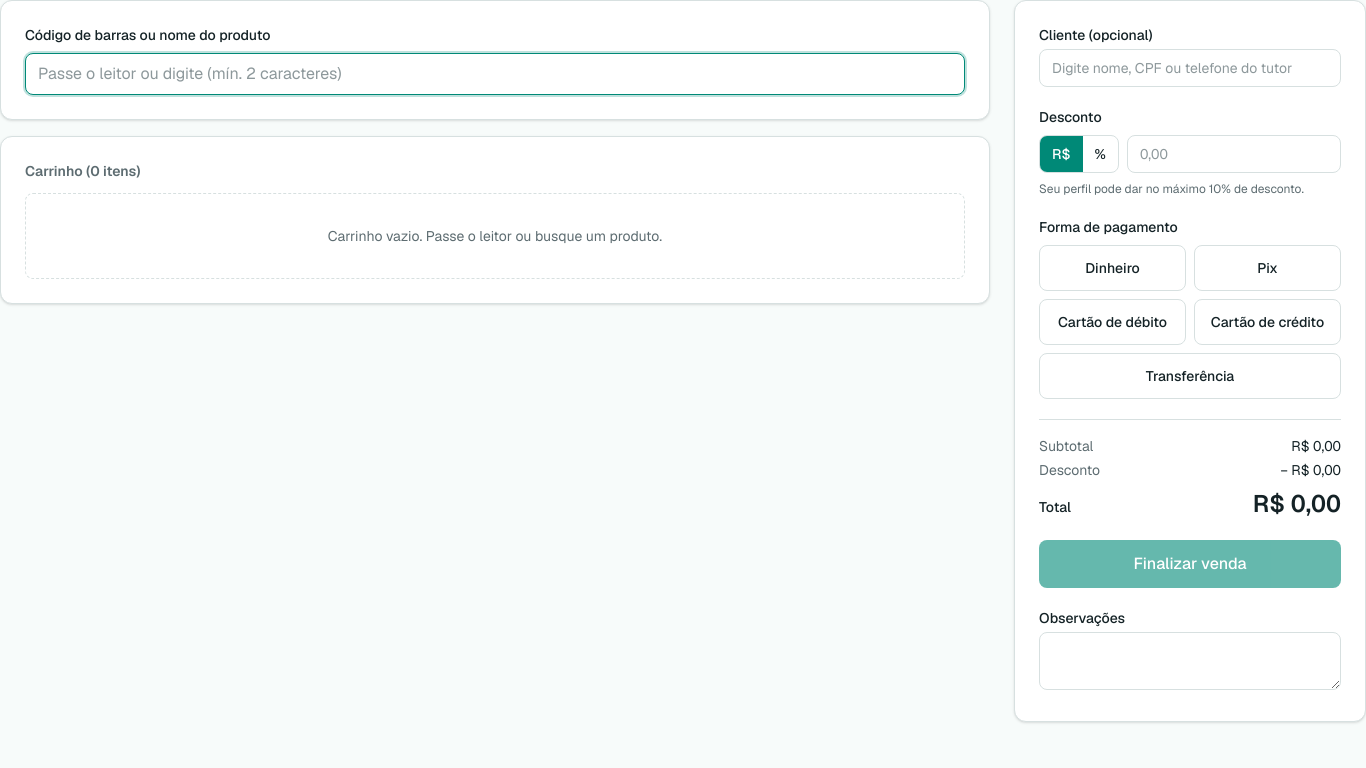
finalização no PDV › 409 de estoque destaca a linha e mantém o carrinho
Type "7891234567890" into the search field labelled "Código de barras ou nome do produto" at (495, 74), box 25,53 -> 965,95
Then press Enter
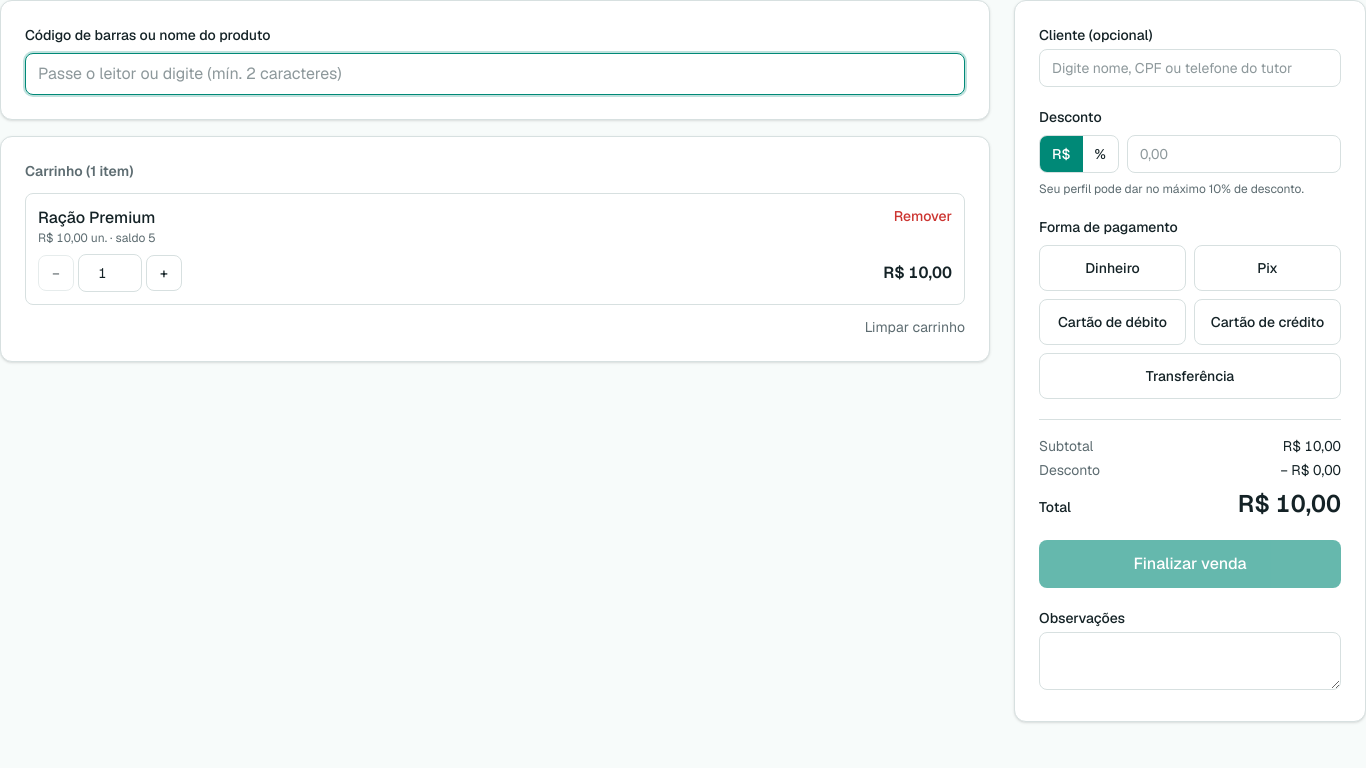
Expected: the list named "Itens do carrinho" is shown, 25,193 -> 965,305
Click the radio button labelled "Pix" at (1268, 268), box 1194,245 -> 1341,291
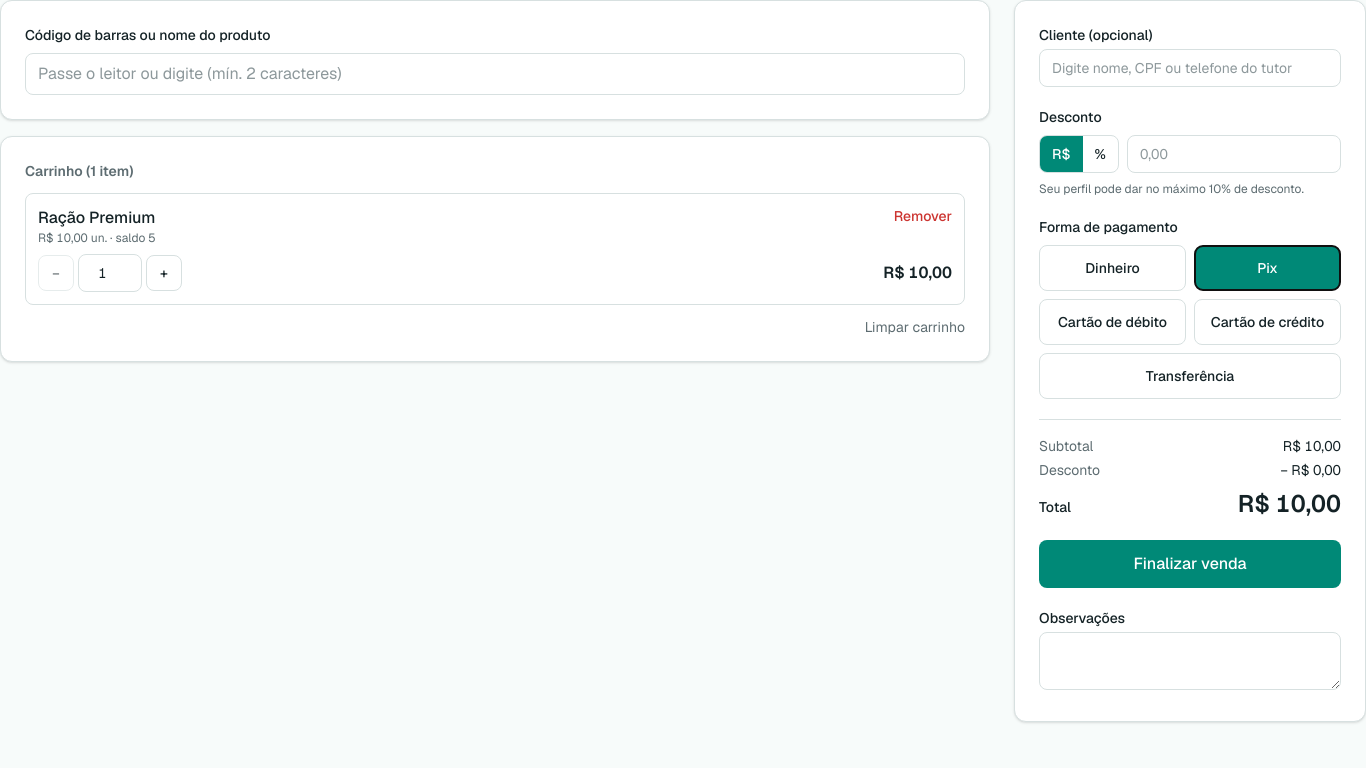
Click the button "Finalizar venda" at (1190, 564), box 1039,540 -> 1341,588
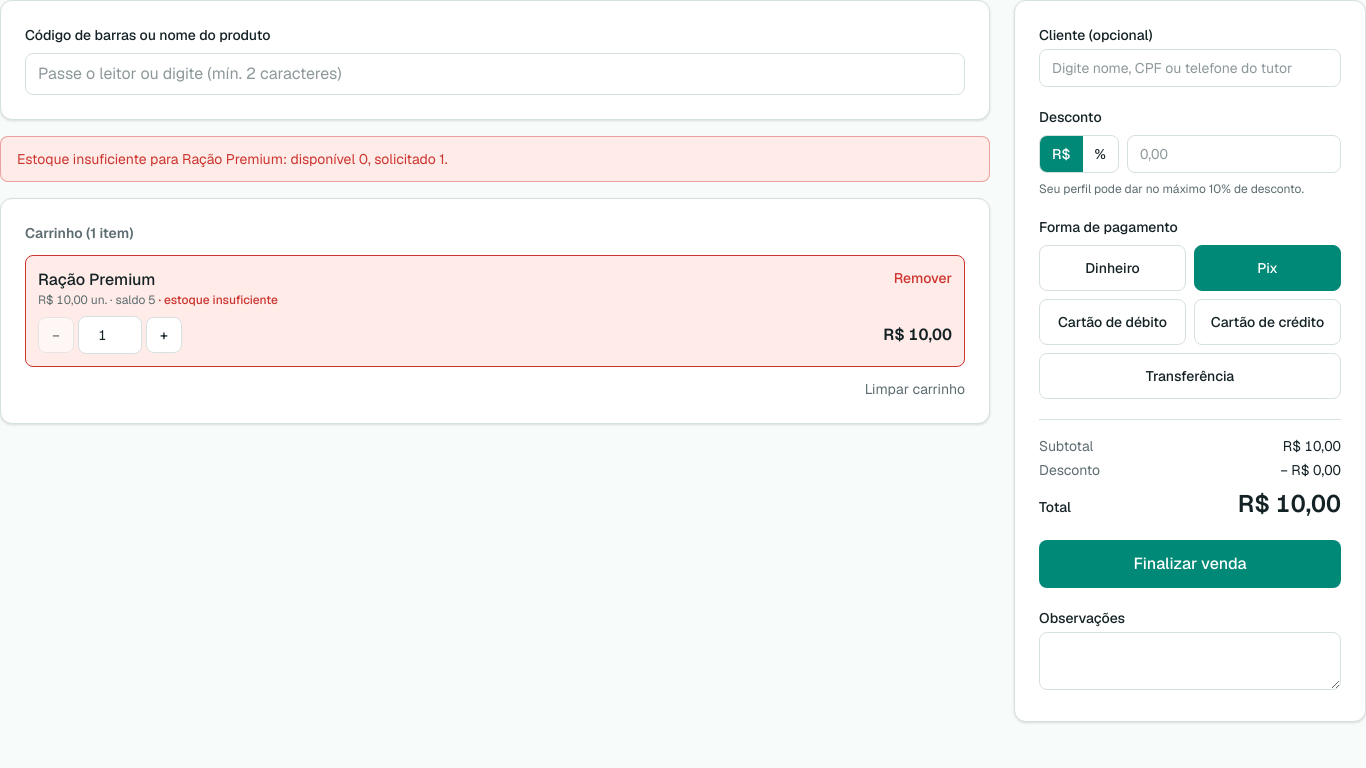
Expected: the text "Estoque insuficiente para Ração Premium: disponível 0, solicitado 1." is shown, 0,136 -> 990,182
Expected: the text "· estoque insuficiente" is shown, 156,292 -> 278,308
